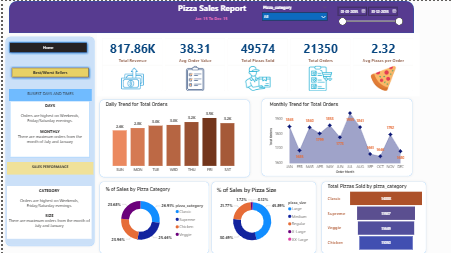

Layout of this report page (visuals, bound fields, positions):
{"tool":"powerbi","page":{"name":"Home","canvas":[1500,850],"ordinal":0},"visuals":[{"type":"cardVisual","fields":{"Data":["pizza_sales.Total Revenue","pizza_sales.Avg Order Value","pizza_sales.Total Pizzas Sold","pizza_sales.Total Orders","pizza_sales.Avg Pizzas per Order"]},"box":[314.8,107.4,1075.9,211.1],"z":0},{"type":"shape","box":[20.4,0,1350,107.4],"z":1000},{"type":"textbox","box":[559.3,0,274.1,66.7],"z":2000},{"type":"textbox","box":[590.7,44.4,209.3,44.4],"z":3000},{"type":"shape","box":[314.8,318.5,518.5,275.9],"z":4000},{"type":"columnChart","title":"Daily Trend for Total Orders","fields":{"Category":["pizza_sales.Order Day"],"Y":["pizza_sales.Total Orders"]},"box":[335.2,333.3,464.8,246.3],"z":5000},{"type":"shape","box":[852,318,520,276],"z":6000},{"type":"areaChart","title":"Monthly Trend for Total Orders","fields":{"Category":["pizza_sales.Order Month"],"Y":["pizza_sales.Total Orders"]},"box":[882,334,460,246],"z":7000},{"type":"shape","box":[314,592,382,258],"z":8000},{"type":"shape","box":[688,592,366,258],"z":9000},{"type":"shape","box":[1054,592,366,258],"z":10000},{"type":"donutChart","title":"% of Sales by Pizza Category","fields":{"Category":["pizza_sales.pizza_category"],"Y":["pizza_sales.Total Revenue"]},"box":[336,616,352,210],"z":11000},{"type":"donutChart","title":"% of Sales by Pizza Size","fields":{"Y":["pizza_sales.Total Revenue"],"Category":["pizza_sales.pizza_size"]},"box":[706,616,328,210],"z":12000},{"type":"funnel","fields":{"Y":["pizza_sales.Total Pizzas Sold"],"Category":["pizza_sales.pizza_category"]},"box":[1076,606,330,232],"z":13000},{"type":"shape","box":[0,110,314,716],"z":14000},{"type":"textbox","box":[24,334,266,188],"z":15000},{"type":"textbox","box":[20,294,276,40],"z":16000},{"type":"textbox","box":[14,538,288,42],"z":17000},{"type":"textbox","box":[14,616,282,176],"z":18000},{"type":"slicer","fields":{"Values":["pizza_sales.pizza_category"]},"box":[852,10,238,68],"z":19000},{"type":"slicer","fields":{"Values":["pizza_sales.order_date"]},"box":[1104,10,238,78],"z":20000},{"type":"pageNavigator","box":[14.3,131.4,275.7,50],"z":21000},{"type":"pageNavigator","box":[20,212.9,275.7,50],"z":22000}]}

Visuals, with their boxes in screenshot pixels (x1, y1, x2, y2), scaled from the page's 1500x850 canvas onto the 451x253 screenshot:
cardVisual - pizza_sales.Total Revenue x pizza_sales.Avg Order Value: l=95, t=32, r=418, b=95
shape: l=6, t=0, r=412, b=32
textbox: l=168, t=0, r=251, b=20
textbox: l=178, t=13, r=241, b=26
shape: l=95, t=95, r=251, b=177
"Daily Trend for Total Orders" columnChart: l=101, t=99, r=241, b=173
shape: l=256, t=95, r=413, b=177
"Monthly Trend for Total Orders" areaChart: l=265, t=99, r=403, b=173
shape: l=94, t=176, r=209, b=252
shape: l=207, t=176, r=317, b=252
shape: l=317, t=176, r=427, b=252
"% of Sales by Pizza Category" donutChart: l=101, t=183, r=207, b=246
"% of Sales by Pizza Size" donutChart: l=212, t=183, r=311, b=246
funnel - pizza_sales.Total Pizzas Sold x pizza_sales.pizza_category: l=324, t=180, r=423, b=249
shape: l=0, t=33, r=94, b=246
textbox: l=7, t=99, r=87, b=155
textbox: l=6, t=88, r=89, b=99
textbox: l=4, t=160, r=91, b=173
textbox: l=4, t=183, r=89, b=236
slicer - pizza_sales.pizza_category: l=256, t=3, r=328, b=23
slicer - pizza_sales.order_date: l=332, t=3, r=403, b=26
pageNavigator: l=4, t=39, r=87, b=54
pageNavigator: l=6, t=63, r=89, b=78
